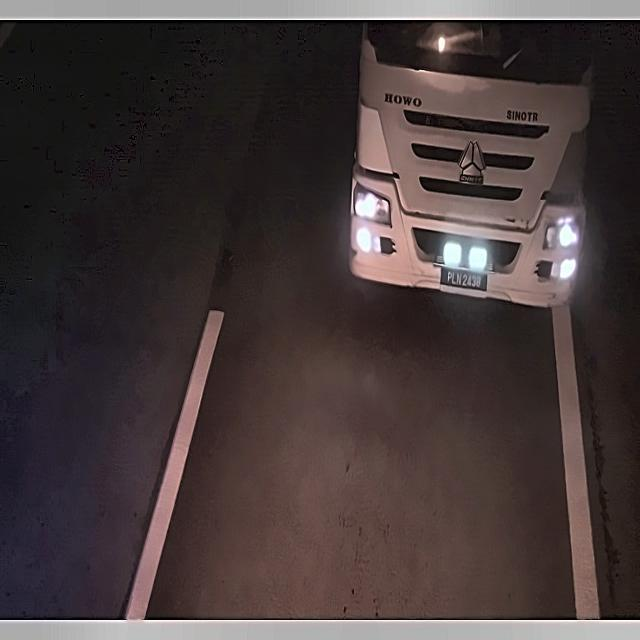car: (438, 265, 492, 298)
